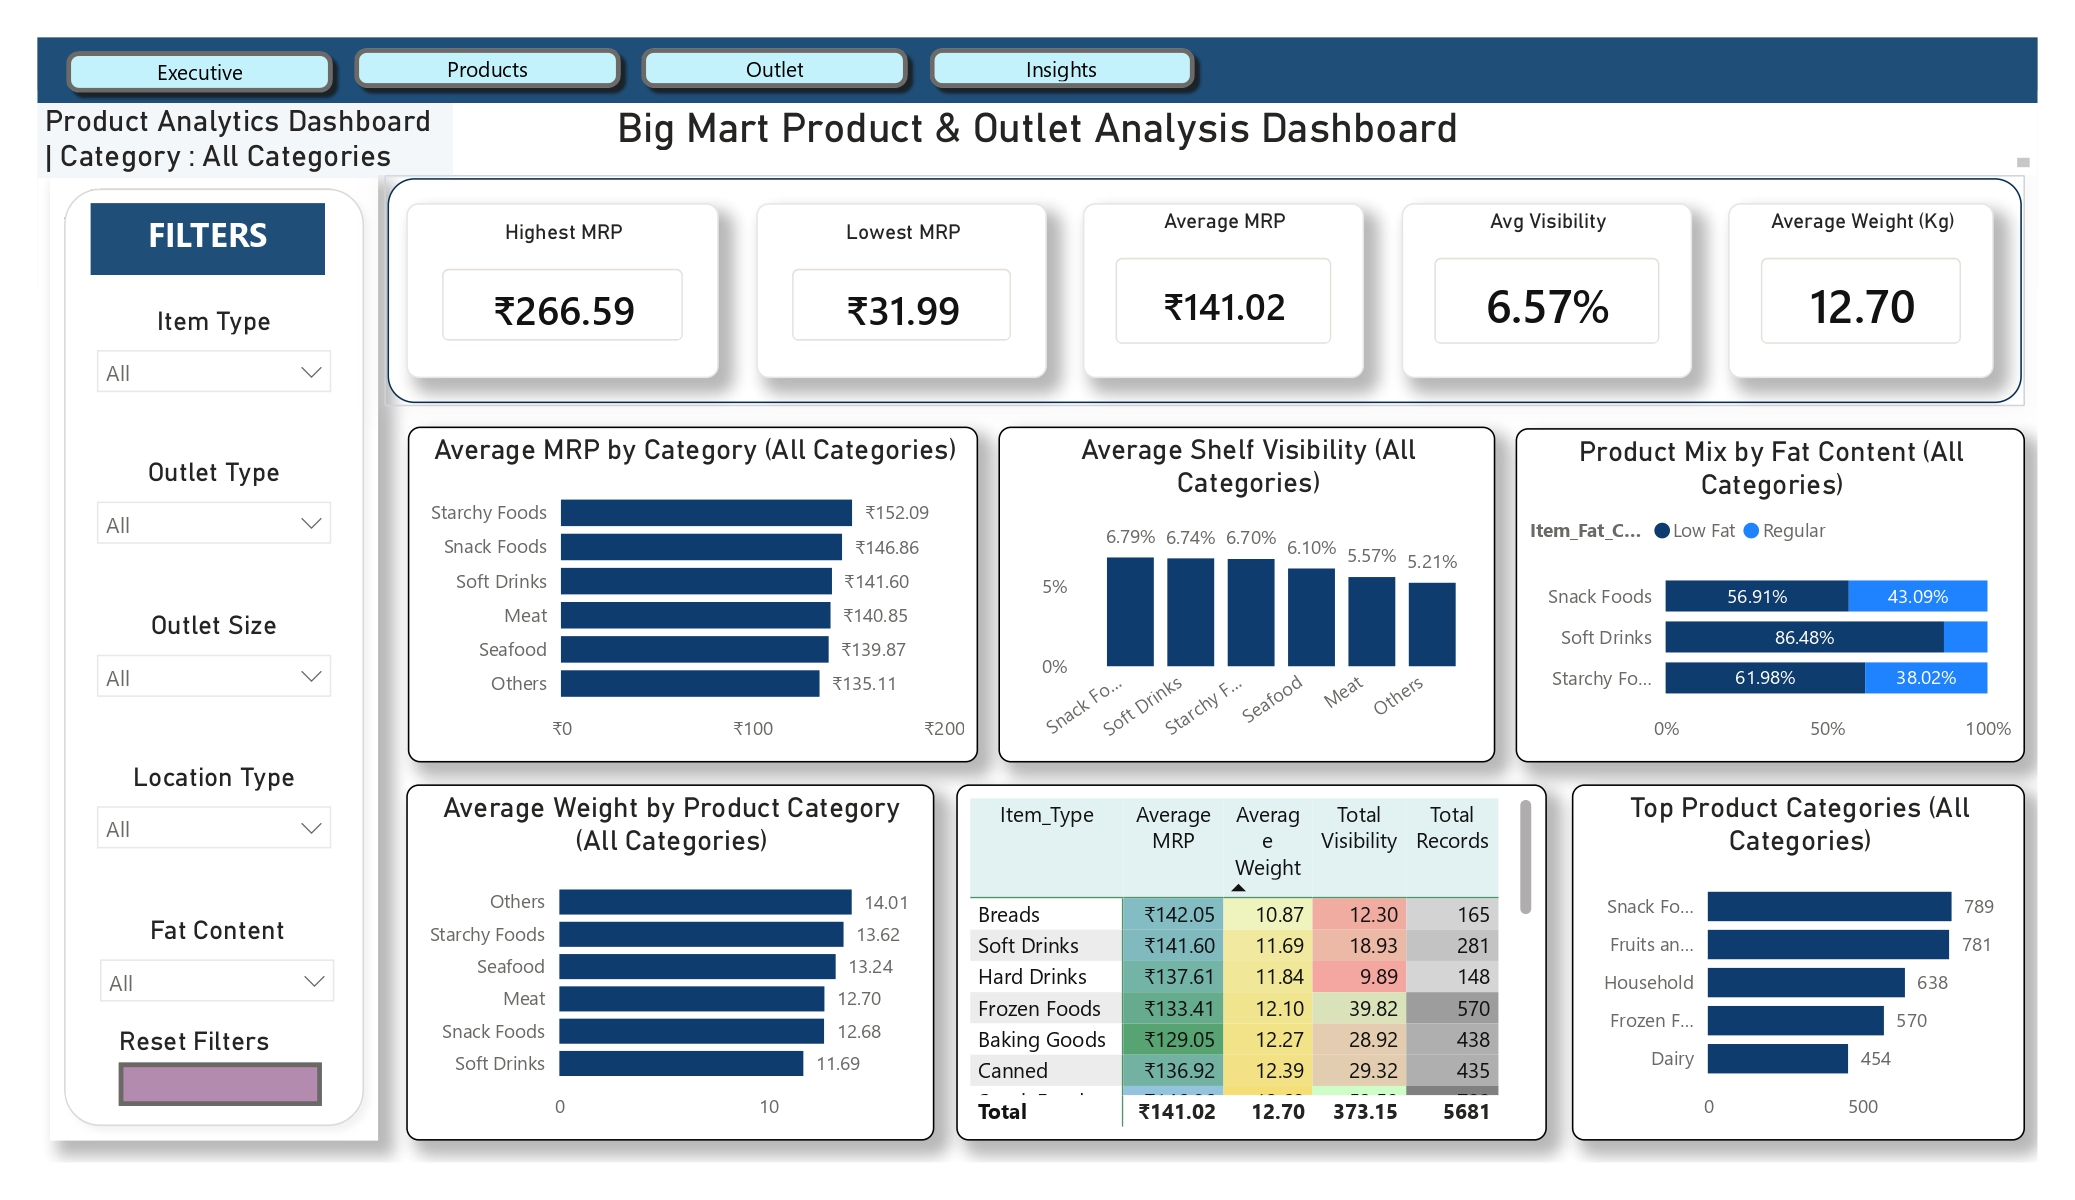

What the dashboard file says about the page in this screenshot:
{"tool":"powerbi","page":{"name":"Product Analytics","canvas":[1280,720],"ordinal":1},"visuals":[{"type":"shape","box":[0,0,1280,42],"z":0},{"type":"shape","box":[8,88,210,618],"z":1000},{"type":"slicer","title":"Item Type","fields":{"Values":["Big Mart Sales.Item_Type"]},"box":[28,170.8,170,64],"z":2000},{"type":"slicer","title":"Outlet Type","fields":{"Values":["Big Mart Sales.Outlet_Type"]},"box":[28,268.3,170,64],"z":3000},{"type":"slicer","title":"Outlet Size","fields":{"Values":["Big Mart Sales.Outlet_Size"]},"box":[28,365.8,170,64],"z":4000},{"type":"slicer","title":"Location Type","fields":{"Values":["Big Mart Sales.Outlet_Location_Type"]},"box":[28,463.3,170,64],"z":5000},{"type":"slicer","title":"Fat Content","fields":{"Values":["Big Mart Sales.Item_Fat_Content"]},"box":[30,560.8,170,72],"z":6000},{"type":"shape","box":[222,88,1050,148],"z":7000},{"type":"cardVisual","title":"Highest MRP","fields":{"Data":["Meaures.Highest MRP"]},"box":[236,106,200,112],"z":8000},{"type":"cardVisual","title":"Lowest MRP","fields":{"Data":["Meaures.Lowest MRP"]},"box":[459.5,106,186,112],"z":9000},{"type":"cardVisual","title":"Average MRP","fields":{"Data":["Meaures.Average MRP"]},"box":[669,106,180,112],"z":10000},{"type":"cardVisual","title":"Avg Visibility","fields":{"Data":["Meaures.Average Visibility"]},"box":[872.5,106,186,112],"z":11000},{"type":"cardVisual","title":"Average Weight (Kg)","fields":{"Data":["Meaures.Average Weight"]},"box":[1082,106,170,112],"z":12000},{"type":"textbox","title":"Big Mart Product & Outlet Analysis Dashboard","box":[0,42,1280,46],"z":13000},{"type":"textbox","box":[0,42,266,48],"z":14000},{"type":"textbox","box":[34,106,150,46],"z":15000},{"type":"clusteredBarChart","fields":{"Category":["Big Mart Sales.Item_Type"],"Y":["Meaures.Average MRP"]},"box":[236.5,249.2,365.7,214.7],"z":16000},{"type":"clusteredBarChart","fields":{"Category":["Big Mart Sales.Item_Type"],"Y":["Meaures.Average Weight"]},"box":[236,478,338,228],"z":17000},{"type":"clusteredColumnChart","fields":{"Category":["Big Mart Sales.Item_Type"],"Y":["Meaures.Average Visibility"]},"box":[614.9,249.2,318.4,214.7],"z":18000},{"type":"hundredPercentStackedBarChart","fields":{"Category":["Big Mart Sales.Item_Type"],"Series":["Big Mart Sales.Item_Fat_Content"],"Y":["CountNonNull(Big Mart Sales.Item_Identifier)"]},"box":[946,250,326,214],"z":19000},{"type":"pivotTable","fields":{"Rows":["Big Mart Sales.Item_Type"],"Values":["Meaures.Average MRP","Meaures.Average Weight","Meaures.Total Visibility","Meaures.Total Records"]},"box":[588,478,378,228],"z":20000},{"type":"clusteredBarChart","fields":{"Category":["Big Mart Sales.Item_Type"],"Y":["CountNonNull(Big Mart Sales.Item_Identifier)"]},"box":[982.4,478.5,289.3,227.4],"z":21000},{"type":"actionButton","title":"Executive","box":[196.2,-0.4,183.8,39.9],"z":22000},{"type":"actionButton","title":"Executive","box":[12.1,1.7,183.8,39.9],"z":23000},{"type":"actionButton","title":"Executive","box":[380,-0.4,183.8,39.9],"z":24000},{"type":"actionButton","title":"Executive","box":[563.7,-0.4,183.8,39.9],"z":25000},{"type":"actionButton","title":"Reset Filters","box":[52,632,130,52],"z":25001}]}

Visuals, with their boxes on the page's 1280x720 design canvas (x1, y1, x2, y2). These are canvas units, not pixel positions in the 2075x1200 screenshot, which may show the page scaled, cropped or inside an application window:
shape: {"x1": 0, "y1": 0, "x2": 1280, "y2": 42}
shape: {"x1": 8, "y1": 88, "x2": 218, "y2": 706}
"Item Type" slicer: {"x1": 28, "y1": 171, "x2": 198, "y2": 235}
"Outlet Type" slicer: {"x1": 28, "y1": 268, "x2": 198, "y2": 332}
"Outlet Size" slicer: {"x1": 28, "y1": 366, "x2": 198, "y2": 430}
"Location Type" slicer: {"x1": 28, "y1": 463, "x2": 198, "y2": 527}
"Fat Content" slicer: {"x1": 30, "y1": 561, "x2": 200, "y2": 633}
shape: {"x1": 222, "y1": 88, "x2": 1272, "y2": 236}
"Highest MRP" cardVisual: {"x1": 236, "y1": 106, "x2": 436, "y2": 218}
"Lowest MRP" cardVisual: {"x1": 460, "y1": 106, "x2": 646, "y2": 218}
"Average MRP" cardVisual: {"x1": 669, "y1": 106, "x2": 849, "y2": 218}
"Avg Visibility" cardVisual: {"x1": 872, "y1": 106, "x2": 1058, "y2": 218}
"Average Weight (Kg)" cardVisual: {"x1": 1082, "y1": 106, "x2": 1252, "y2": 218}
"Big Mart Product & Outlet Analysis Dashboard" textbox: {"x1": 0, "y1": 42, "x2": 1280, "y2": 88}
textbox: {"x1": 0, "y1": 42, "x2": 266, "y2": 90}
textbox: {"x1": 34, "y1": 106, "x2": 184, "y2": 152}
clusteredBarChart - Big Mart Sales.Item_Type x Meaures.Average MRP: {"x1": 236, "y1": 249, "x2": 602, "y2": 464}
clusteredBarChart - Big Mart Sales.Item_Type x Meaures.Average Weight: {"x1": 236, "y1": 478, "x2": 574, "y2": 706}
clusteredColumnChart - Big Mart Sales.Item_Type x Meaures.Average Visibility: {"x1": 615, "y1": 249, "x2": 933, "y2": 464}
hundredPercentStackedBarChart - Big Mart Sales.Item_Type x Big Mart Sales.Item_Fat_Content: {"x1": 946, "y1": 250, "x2": 1272, "y2": 464}
pivotTable - Big Mart Sales.Item_Type x Meaures.Average MRP: {"x1": 588, "y1": 478, "x2": 966, "y2": 706}
clusteredBarChart - Big Mart Sales.Item_Type x CountNonNull(Big Mart Sales.Item_Identifier): {"x1": 982, "y1": 478, "x2": 1272, "y2": 706}
"Executive" actionButton: {"x1": 196, "y1": 0, "x2": 380, "y2": 40}
"Executive" actionButton: {"x1": 12, "y1": 2, "x2": 196, "y2": 42}
"Executive" actionButton: {"x1": 380, "y1": 0, "x2": 564, "y2": 40}
"Executive" actionButton: {"x1": 564, "y1": 0, "x2": 748, "y2": 40}
"Reset Filters" actionButton: {"x1": 52, "y1": 632, "x2": 182, "y2": 684}
